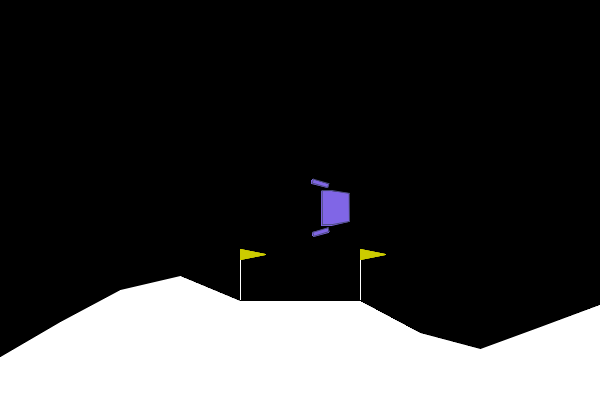lander: (311, 178, 351, 238)
